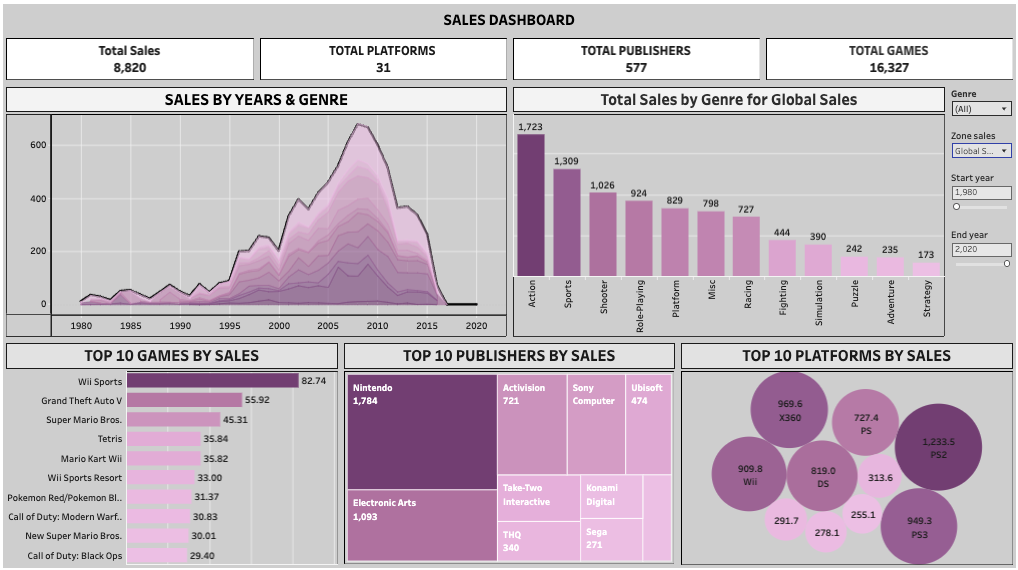

This screenshot's page, from the dashboard's own definition file:
{"tool":"tableau","page":{"name":"Dashboard 1","canvas":[1366,768],"ordinal":0},"visuals":[{"type":"text","box":[8,8,1350,41]},{"type":"worksheet","title":"Total sales","mark":"Automatic","box":[8,49,338,65]},{"type":"worksheet","title":"Total platforms","mark":"Automatic","box":[346,49,338,65]},{"type":"worksheet","title":"Total publishers","mark":"Automatic","box":[684,49,337,65]},{"type":"worksheet","title":"Total games","mark":"Automatic","box":[1021,49,337,65]},{"type":"worksheet","title":"Sales by years and genre","mark":"Automatic","rows":["Calculation_1863645822196957184","Calculation_1863645822196957184"],"cols":["Year"],"box":[8,114,676,342]},{"type":"worksheet","title":"Total sales by genre","mark":"Automatic","rows":["Calculation_1863645822196957184"],"cols":["Genre"],"box":[684,114,584,342]},{"type":"filter","title":"Sales by years and genre","param":"[federated.0whaoz31saqohm1eey3kr1mjlx3k].[none:Genre:nk]","box":[1268,114,90,57]},{"type":"parameter","param":"[Parameters].[Parameter 1]","box":[1268,171,90,52]},{"type":"parameter","param":"[Parameters].[Parameter 2]","box":[1268,223,90,75]},{"type":"parameter","param":"[Parameters].[Parameter 3]","box":[1268,298,90,75]},{"type":"worksheet","title":"Top 10 names by sales","mark":"Automatic","rows":["Name"],"cols":["Calculation_1863645822196957184"],"box":[8,456,450,304]},{"type":"worksheet","title":"Top 10 publishers by sales","mark":"Automatic","box":[458,456,450,304]},{"type":"worksheet","title":"Top 10 platforms by sales","mark":"Circle","box":[908,456,450,304]}]}

Visuals, with their boxes in screenshot pixels (x1, y1, x2, y2), scaled from the page's 1366x768 canvas onto the 1018x570 screenshot:
text: (x1=6, y1=6, x2=1012, y2=36)
"Total sales" worksheet: (x1=6, y1=36, x2=258, y2=85)
"Total platforms" worksheet: (x1=258, y1=36, x2=510, y2=85)
"Total publishers" worksheet: (x1=510, y1=36, x2=761, y2=85)
"Total games" worksheet: (x1=761, y1=36, x2=1012, y2=85)
"Sales by years and genre" worksheet: (x1=6, y1=85, x2=510, y2=338)
"Total sales by genre" worksheet: (x1=510, y1=85, x2=945, y2=338)
"Sales by years and genre" filter: (x1=945, y1=85, x2=1012, y2=127)
parameter: (x1=945, y1=127, x2=1012, y2=166)
parameter: (x1=945, y1=166, x2=1012, y2=221)
parameter: (x1=945, y1=221, x2=1012, y2=277)
"Top 10 names by sales" worksheet: (x1=6, y1=338, x2=341, y2=564)
"Top 10 publishers by sales" worksheet: (x1=341, y1=338, x2=677, y2=564)
"Top 10 platforms by sales" worksheet (Circle marks): (x1=677, y1=338, x2=1012, y2=564)
